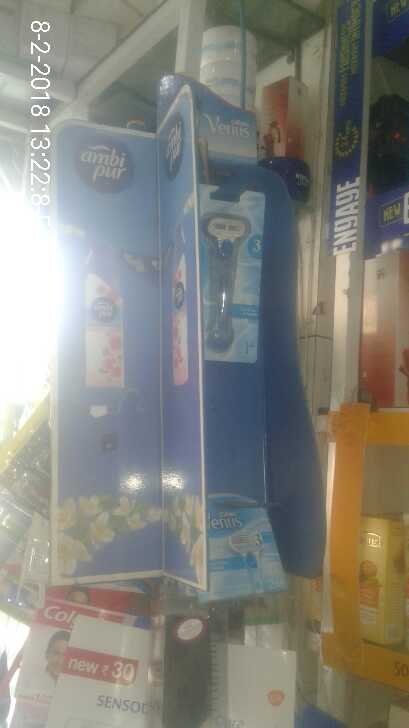venus: (191, 188, 270, 370), (182, 495, 284, 602)
